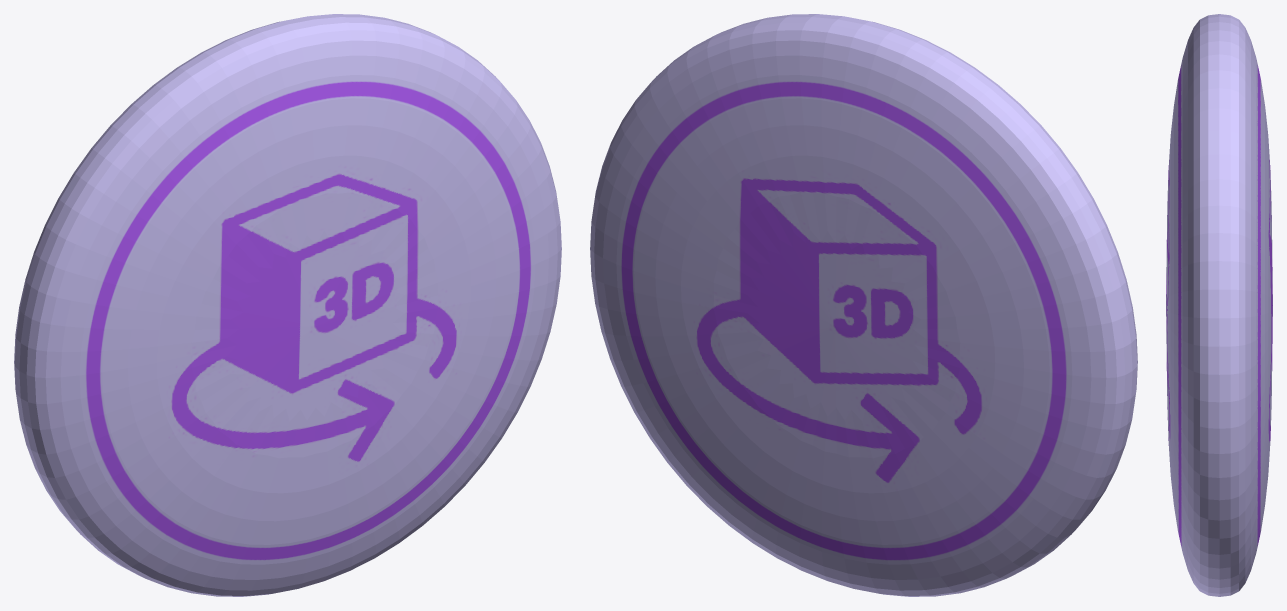
The model's file is 3D_marker.glb.
The picture shows the model from 3 angles, left to right: view 1: azimuth 30°, elevation 25°; view 2: azimuth 150°, elevation 25°; view 3: azimuth 270°, elevation 25°; orthographic projection. The views are drawn at different scales.
Visible parts, largest first — view 1: Cylinder; view 2: Cylinder; view 3: Cylinder.
Boxes of the visible parts, bbox=[...] form: Cylinder: bbox=[14, 14, 561, 596]; Cylinder: bbox=[590, 14, 1137, 596]; Cylinder: bbox=[1166, 14, 1272, 596].
Bounding box in the file's own units: 1.98 × 1.98 × 0.3636.
Materials: 1 (1 with a texture image).
